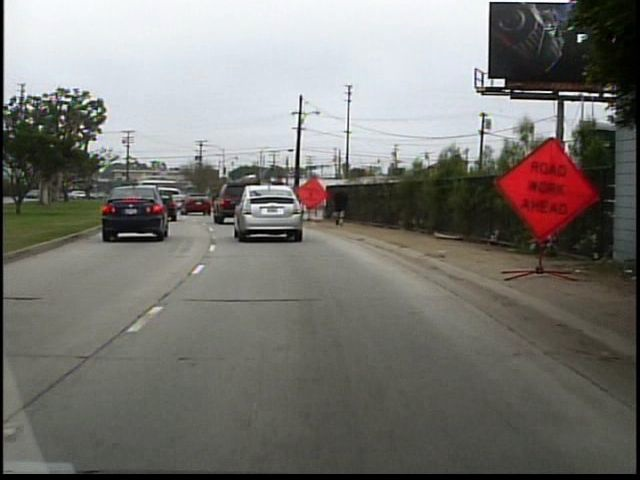person: (327, 180, 351, 228)
